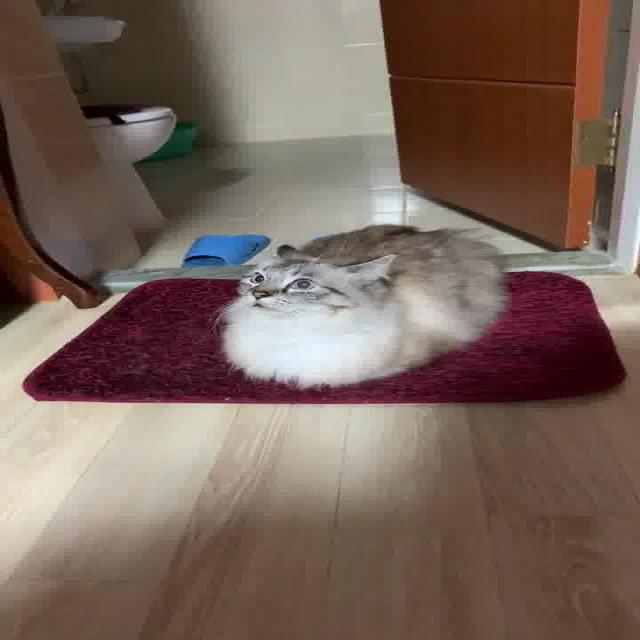cat: (213, 218, 512, 395)
